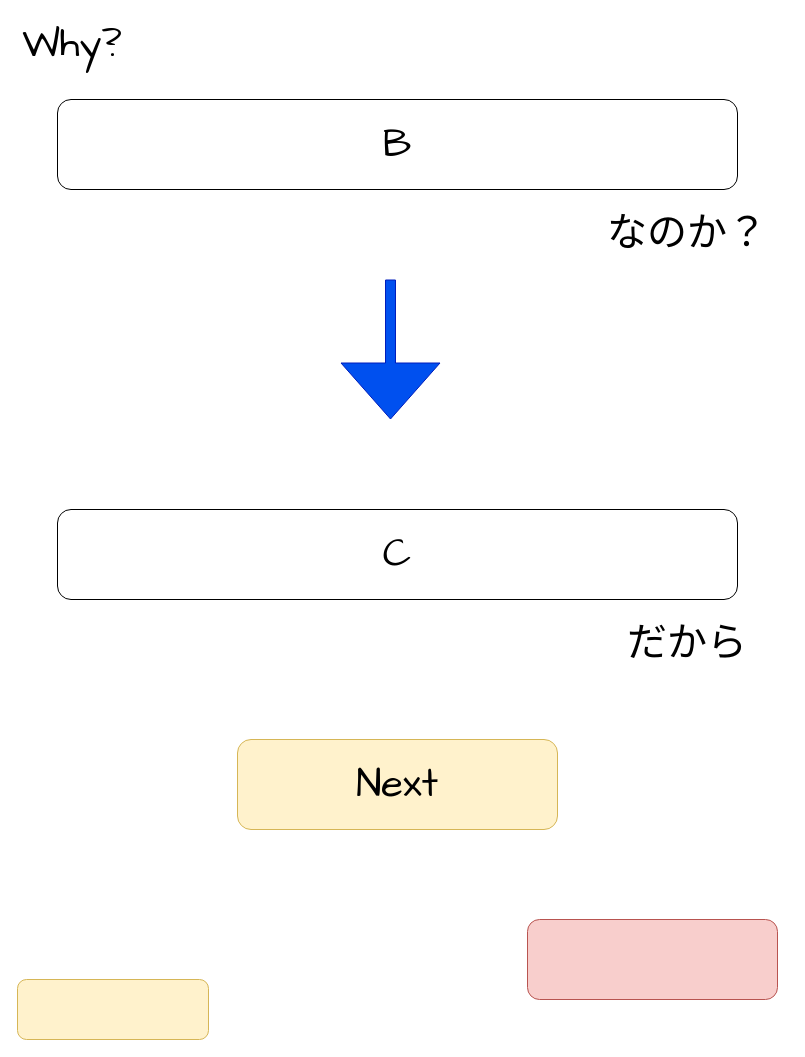
Some shapes in this 805 by 1057 pixel diagram are drawn without their labels. Here are the shapes that lost their labels. From the top down, the centre of each, then its label:
At point 652,959: "Finish!".
At point 112,1009: "TOPへ戻る".
